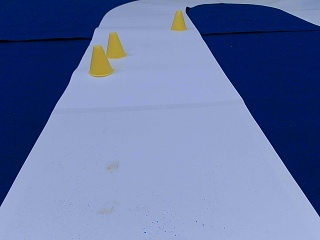cone: (89, 45, 113, 76), (105, 32, 126, 58), (170, 10, 186, 30)
